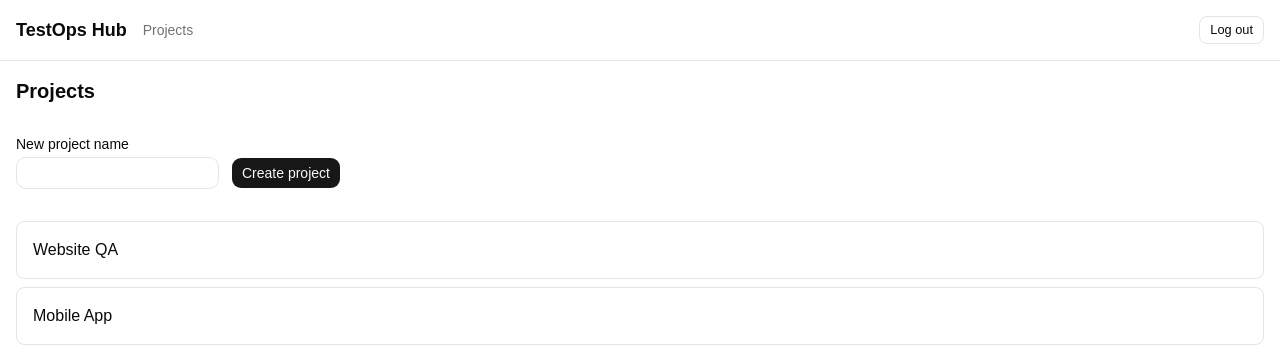
it: logout › clears the session and returns to /login
Click the button "Log out". click: (1232, 30)
box: [1199,16,1264,44]
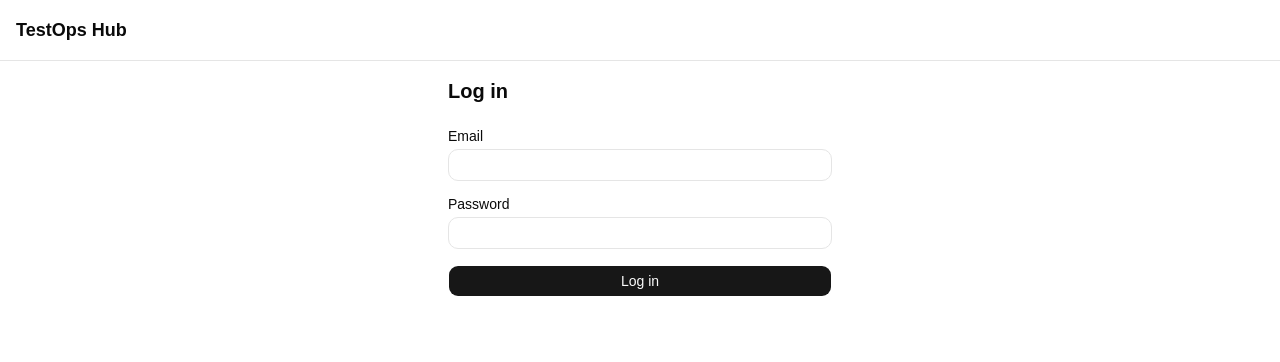
expect the heading "Log in" is shown: met, box [448,80,508,102]
